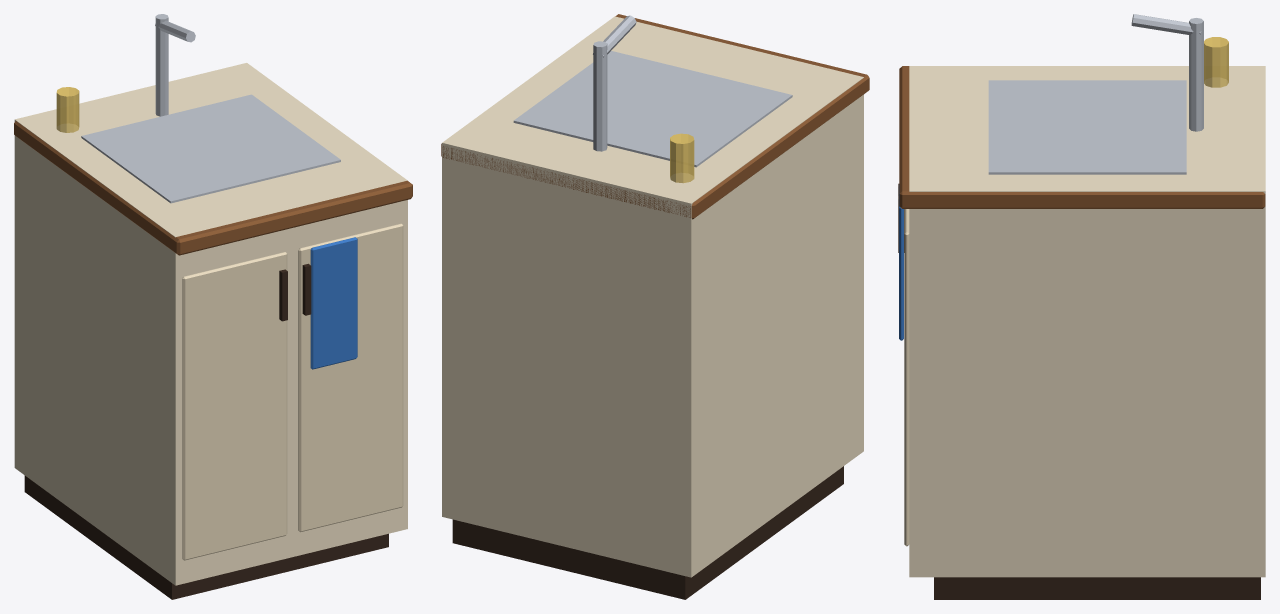
The model's file is counter_sink.fbx.
3 views of the same model, side by side, from view 1: azimuth 30°, elevation 25°; view 2: azimuth 150°, elevation 25°; view 3: azimuth 270°, elevation 25° (orthographic). The views are drawn at different scales.
Parts seen in each view (by area): view 1: counter_sink; view 2: counter_sink; view 3: counter_sink.
Part boxes in pixels (<box>): counter_sink: <box>14,14,412,599</box>; counter_sink: <box>441,14,869,599</box>; counter_sink: <box>898,14,1265,599</box>.
Size of the model in its own units: 0.61 by 1.17 by 0.7425.
